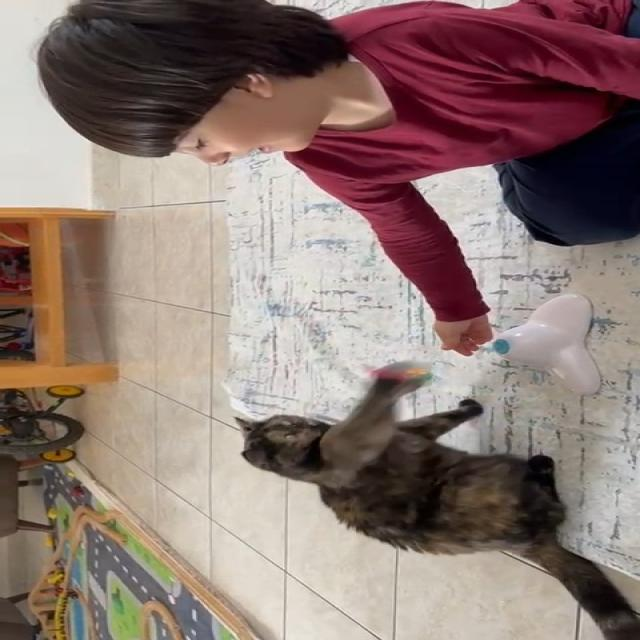authorized: (232, 363, 639, 639)
